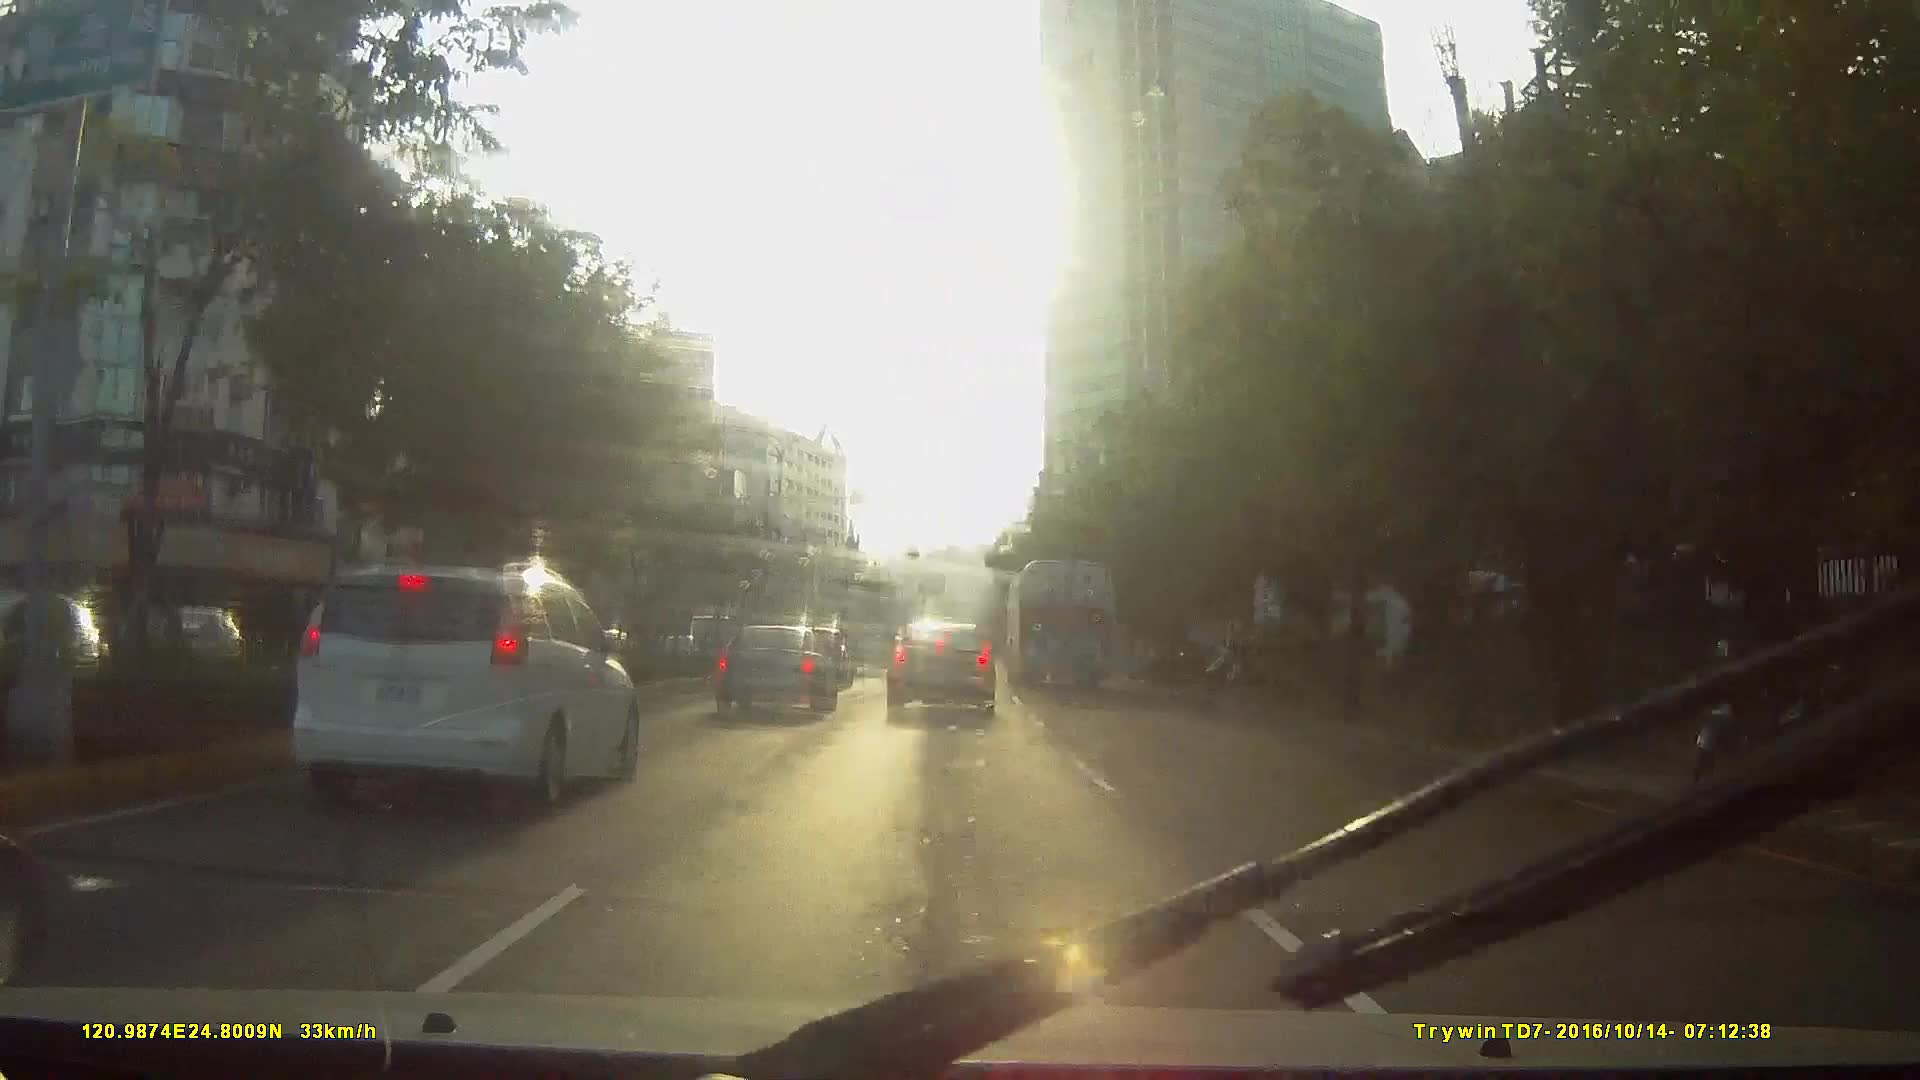vehicle: (251, 556, 684, 868), (276, 555, 650, 819), (1007, 553, 1117, 686), (712, 618, 839, 716), (886, 612, 997, 717), (848, 620, 899, 673)
